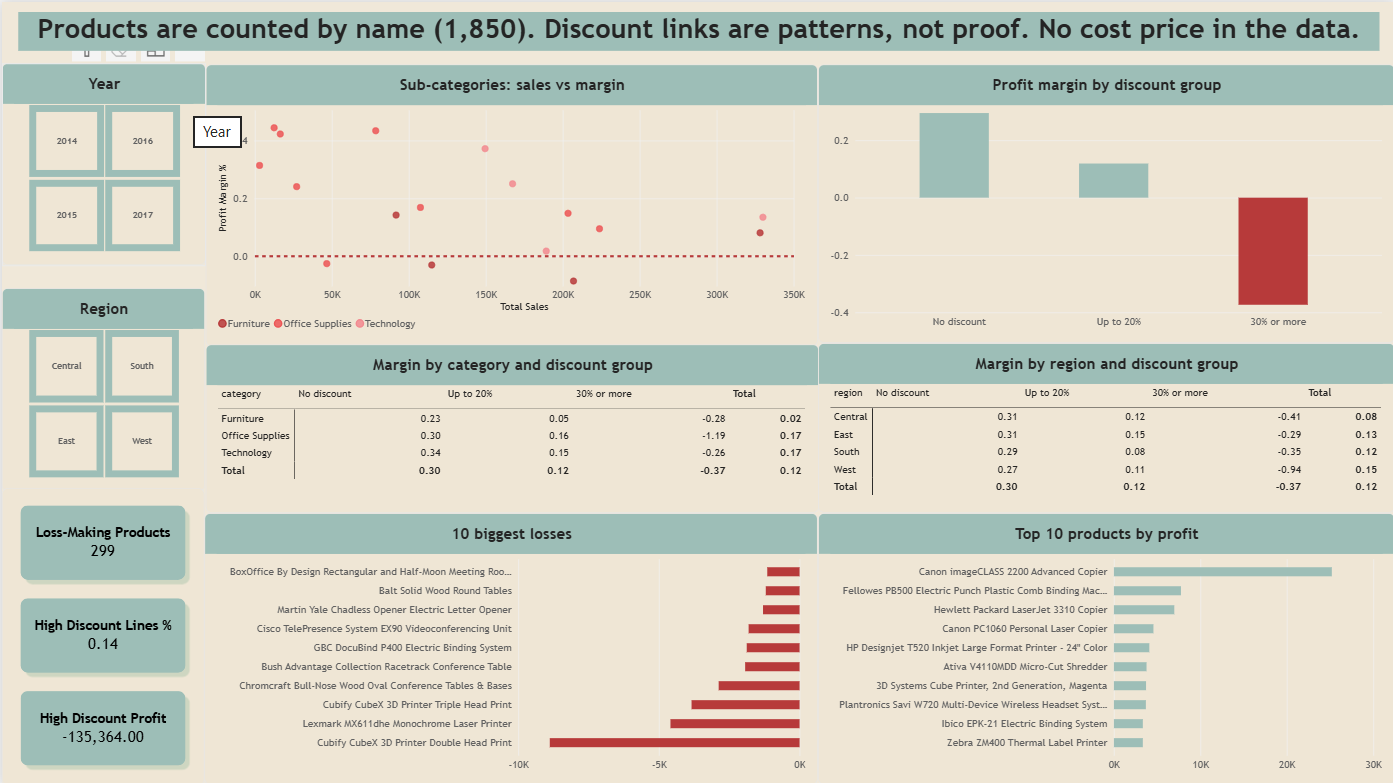

The page's visual inventory and layout, read from the dashboard file:
{"tool":"powerbi","page":{"name":"3 Products & Discounts","canvas":[1920,1080],"ordinal":3},"visuals":[{"type":"slicer","title":"Year","fields":{"Values":["Calendar.Year"]},"box":[0,85.1,281.1,278.6],"z":0},{"type":"slicer","title":"Region","fields":{"Values":["Sales.region"]},"box":[0,395,280,280],"z":1000},{"type":"cardVisual","fields":{"Data":["_Measures.Loss-Making Products","_Measures.High Discount Lines %","_Measures.High Discount Profit"]},"box":[0,670.6,279.6,409.3],"z":2000},{"type":"scatterChart","title":"Sub-categories: sales vs margin","fields":{"Category":["Products.sub_category"],"Series":["Products.category"],"X":["_Measures.Total Sales"],"Y":["_Measures.Profit Margin %"]},"box":[281.4,85.9,844.2,389.2],"z":3000},{"type":"columnChart","title":"Profit margin by discount group","fields":{"Category":["Sales.Discount Band"],"Y":["_Measures.Profit Margin %"]},"box":[1125.5,85.9,794.8,383.7],"z":4000},{"type":"pivotTable","title":"Margin by category and discount group","fields":{"Columns":["Sales.Discount Band"],"Rows":["Products.category"],"Values":["_Measures.Profit Margin %"]},"box":[281.4,473.2,846,232.1],"z":5000},{"type":"pivotTable","title":"Margin by region and discount group","fields":{"Columns":["Sales.Discount Band"],"Rows":["Sales.region"],"Values":["_Measures.Profit Margin %"]},"box":[1125.5,471.4,794.8,233.9],"z":6000},{"type":"barChart","title":"Top 10 products by profit","fields":{"Category":["Products.product_name"],"Y":["_Measures.Total Profit"]},"box":[1125.5,705.3,794.8,374.6],"z":7000},{"type":"barChart","title":"10 biggest losses","fields":{"Category":["Products.product_name"],"Y":["_Measures.Total Profit"]},"box":[279.6,705.3,846,374.6],"z":8000},{"type":"textbox","box":[22.2,13,1877.8,53.7],"z":9000}]}

Visuals, with their boxes in screenshot pixels (x1, y1, x2, y2), scaled from the page's 1920x1080 canvas onto the 1393x783 screenshot:
"Year" slicer: bbox=[0, 62, 204, 264]
"Region" slicer: bbox=[0, 286, 203, 489]
cardVisual - _Measures.Loss-Making Products x _Measures.High Discount Lines %: bbox=[0, 486, 203, 782]
"Sub-categories: sales vs margin" scatterChart: bbox=[204, 62, 817, 344]
"Profit margin by discount group" columnChart: bbox=[817, 62, 1392, 340]
"Margin by category and discount group" pivotTable: bbox=[204, 343, 818, 511]
"Margin by region and discount group" pivotTable: bbox=[817, 342, 1392, 511]
"Top 10 products by profit" barChart: bbox=[817, 511, 1392, 782]
"10 biggest losses" barChart: bbox=[203, 511, 817, 782]
textbox: bbox=[16, 9, 1378, 48]
